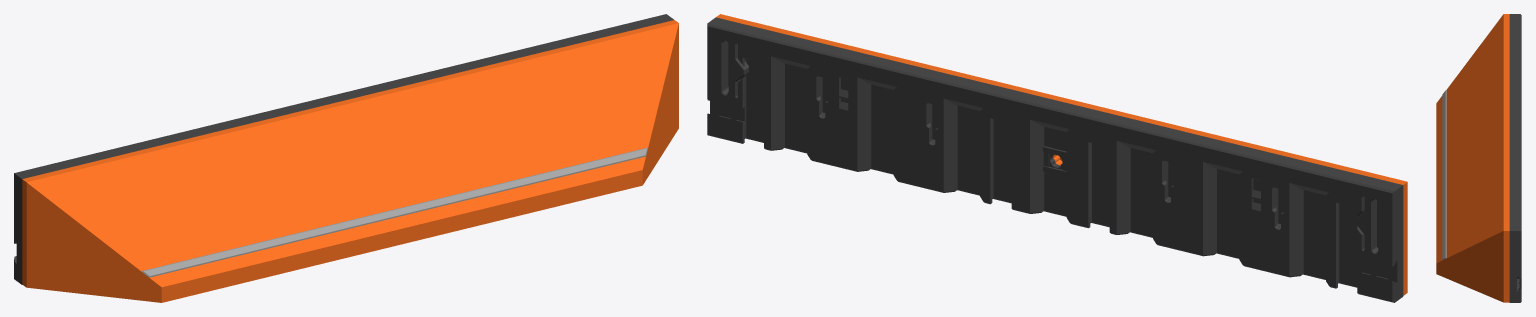
Rendered from Faceplate_ClassicDecor_2W-05H.lib.glb.
The picture shows the model from 3 angles, left to right: view 1: azimuth 30°, elevation 25°; view 2: azimuth 150°, elevation 25°; view 3: azimuth 270°, elevation 25°; orthographic projection. The views are drawn at different scales.
Parts seen in each view (by area): view 1: Faceplate_ClassicDecor_2W-05H; view 2: Faceplate_ClassicDecor_2W-05H; view 3: Faceplate_ClassicDecor_2W-05H.
Part boxes in pixels (x1,y1,x2,y2): Faceplate_ClassicDecor_2W-05H: (14,14,678,302); Faceplate_ClassicDecor_2W-05H: (707,14,1407,302); Faceplate_ClassicDecor_2W-05H: (1436,14,1521,302).
Size of the model in its own units: 175 by 27.15 by 29.2.
